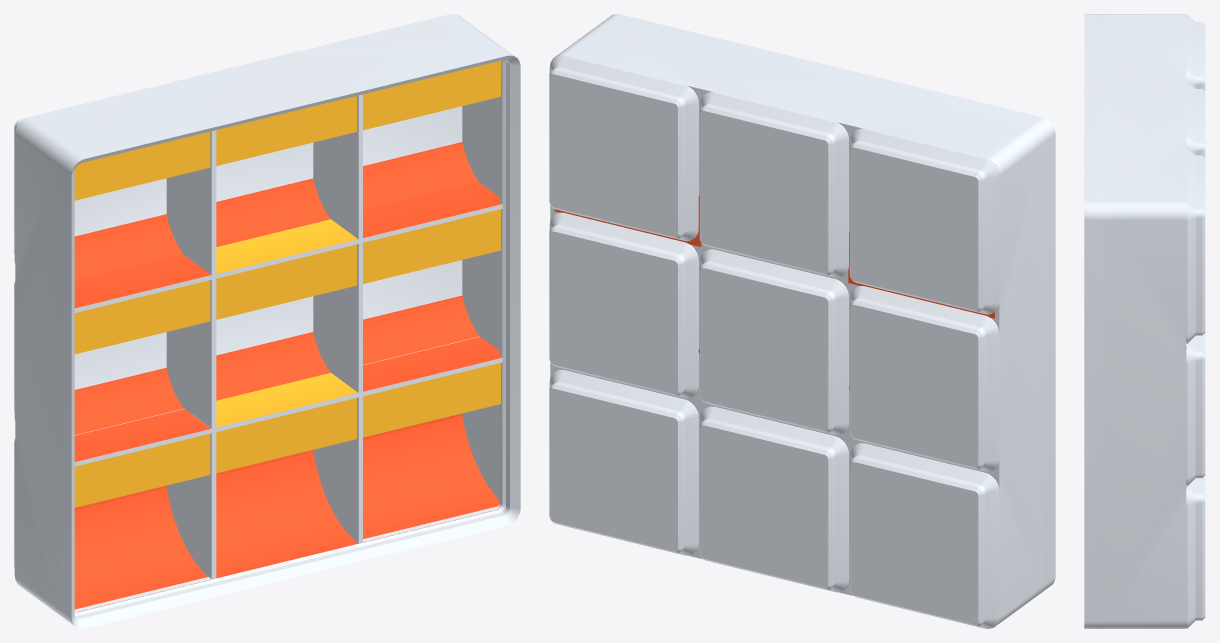
File: showcase-3x3-organizer.glb
3 renders of one model, left to right at view 1: azimuth 30°, elevation 25°; view 2: azimuth 150°, elevation 25°; view 3: azimuth 270°, elevation 25°, orthographic. The views are drawn at different scales.
Size of the model in its own units: 126 by 126 by 32.41.
